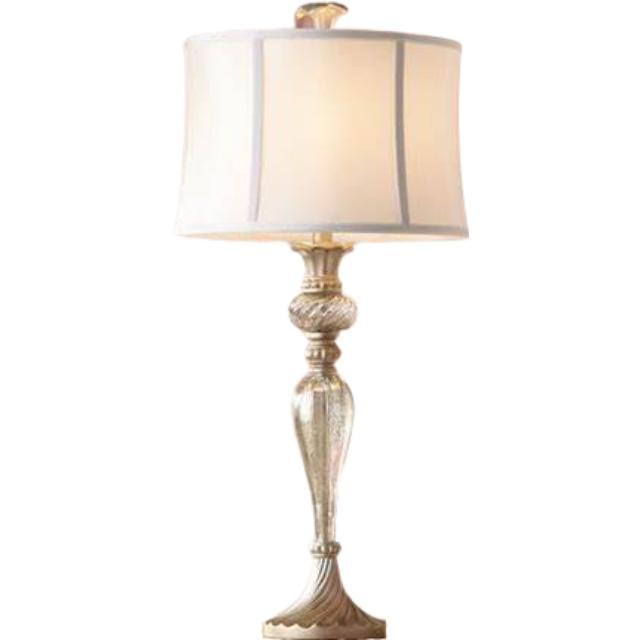lamp: (174, 4, 469, 640)
